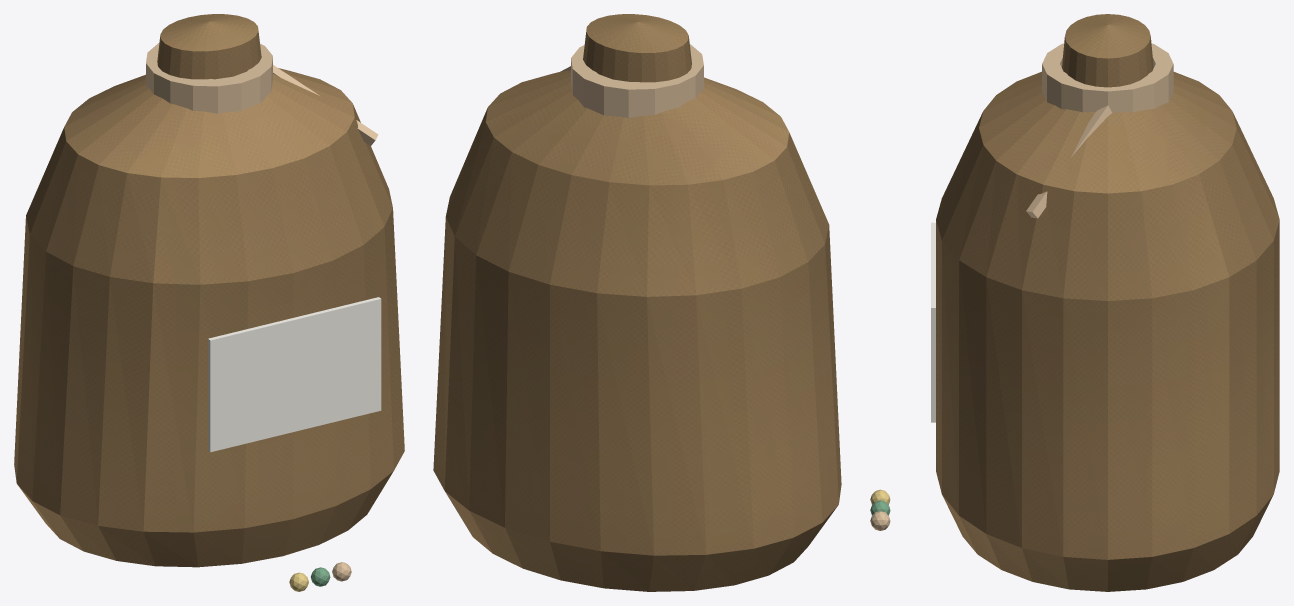
The model's file is saco_sementes.glb.
3 renders of one model, left to right at view 1: azimuth 30°, elevation 25°; view 2: azimuth 150°, elevation 25°; view 3: azimuth 270°, elevation 25°, orthographic. The views are drawn at different scales.
Parts seen in each view (by area): view 1: saco_sementes_juta, saco_sementes_papel, saco_sementes_cortica; view 2: saco_sementes_juta, saco_sementes_cortica; view 3: saco_sementes_juta, saco_sementes_cortica, saco_sementes_papel.
Boxes of the visible parts, left/top/right/bottom form: saco_sementes_juta: left=14, top=14, right=404, bottom=567; saco_sementes_papel: left=208, top=297, right=381, bottom=452; saco_sementes_cortica: left=146, top=43, right=378, bottom=581; saco_sementes_juta: left=433, top=14, right=841, bottom=591; saco_sementes_cortica: left=559, top=44, right=703, bottom=118; saco_sementes_juta: left=936, top=14, right=1279, bottom=591; saco_sementes_cortica: left=870, top=43, right=1173, bottom=530; saco_sementes_papel: left=931, top=222, right=935, bottom=422.
Size of the model in its own units: 0.1657 by 0.216 by 0.162.
Materials: 5 (1 with a texture image).
